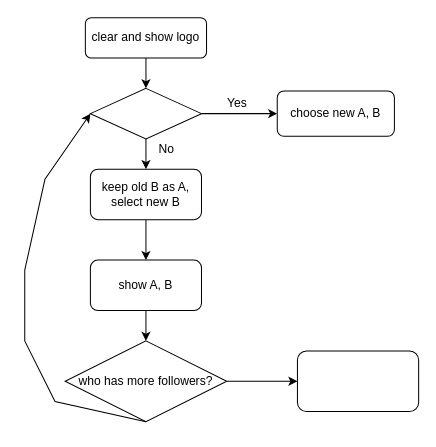
The diagram is 436 pixels wide and 447 high, and some of its shapes have lost their labels. Here are the shapes that lost their labels. From the top down, the centre of each, then its label:
pixel 145 113: first time?
pixel 357 381: show final score
